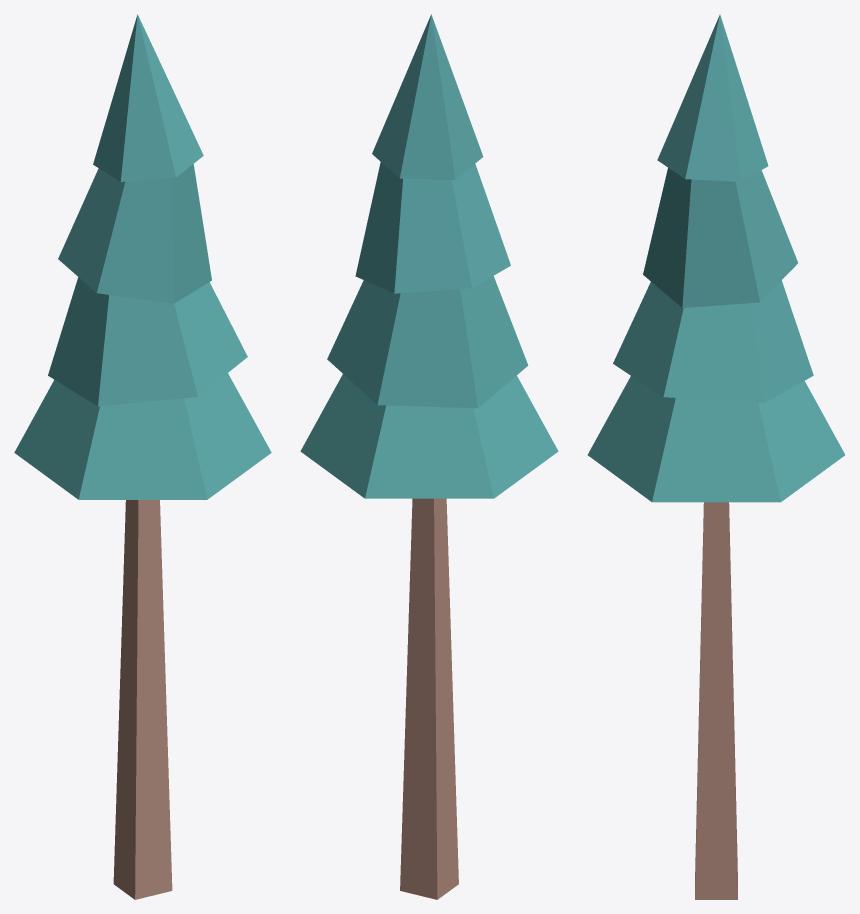
Rendered from tree_pineTallD.glb.
3 views of the same model, side by side, from view 1: azimuth 30°, elevation 25°; view 2: azimuth 150°, elevation 25°; view 3: azimuth 270°, elevation 25° (orthographic).
Parts seen in each view (by area): view 1: tree_pineTallD; view 2: tree_pineTallD; view 3: tree_pineTallD.
Part boxes in pixels (x1,y1,x2,y2): tree_pineTallD: (14, 14, 271, 899); tree_pineTallD: (300, 14, 558, 899); tree_pineTallD: (587, 14, 845, 899).
Size of the model in its own units: 0.4804 by 2.08 by 0.5547.
